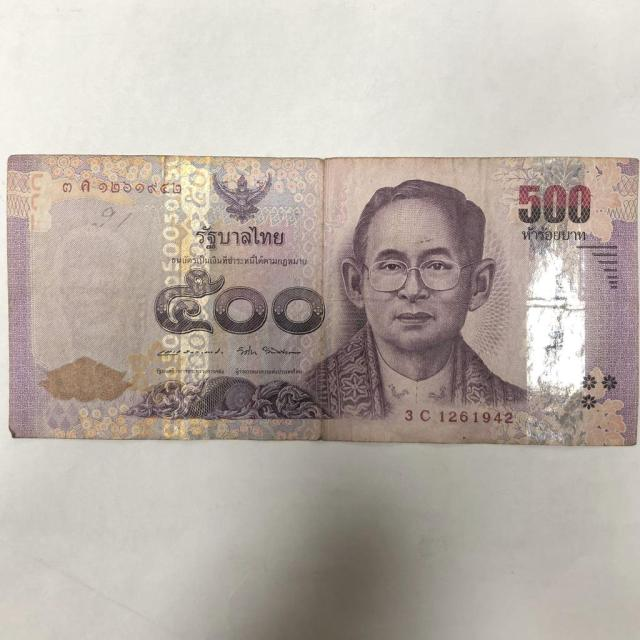THAI500: (7, 156, 639, 448)
